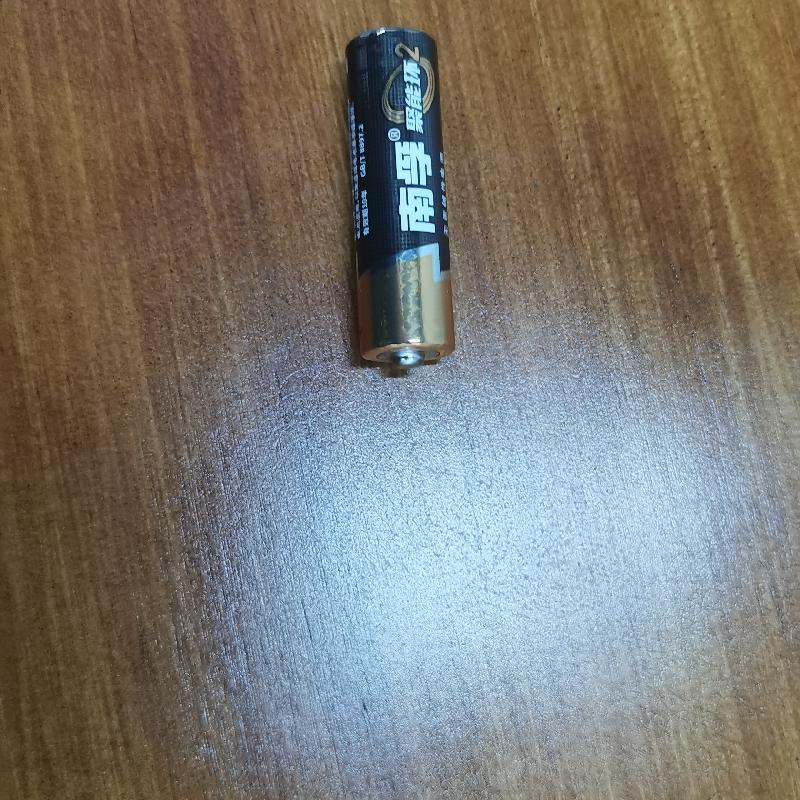battery: (328, 22, 462, 383)
